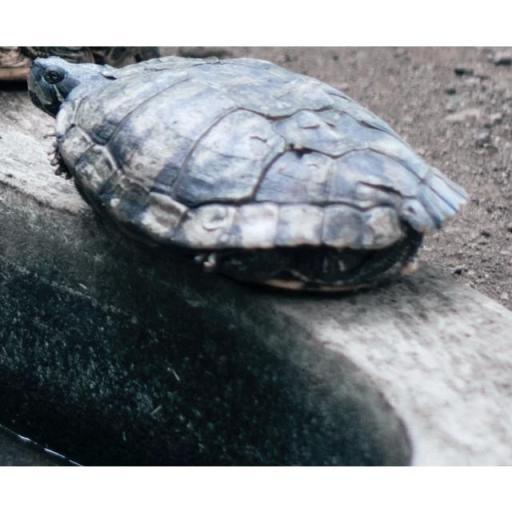turtle: (26, 57, 470, 295)
